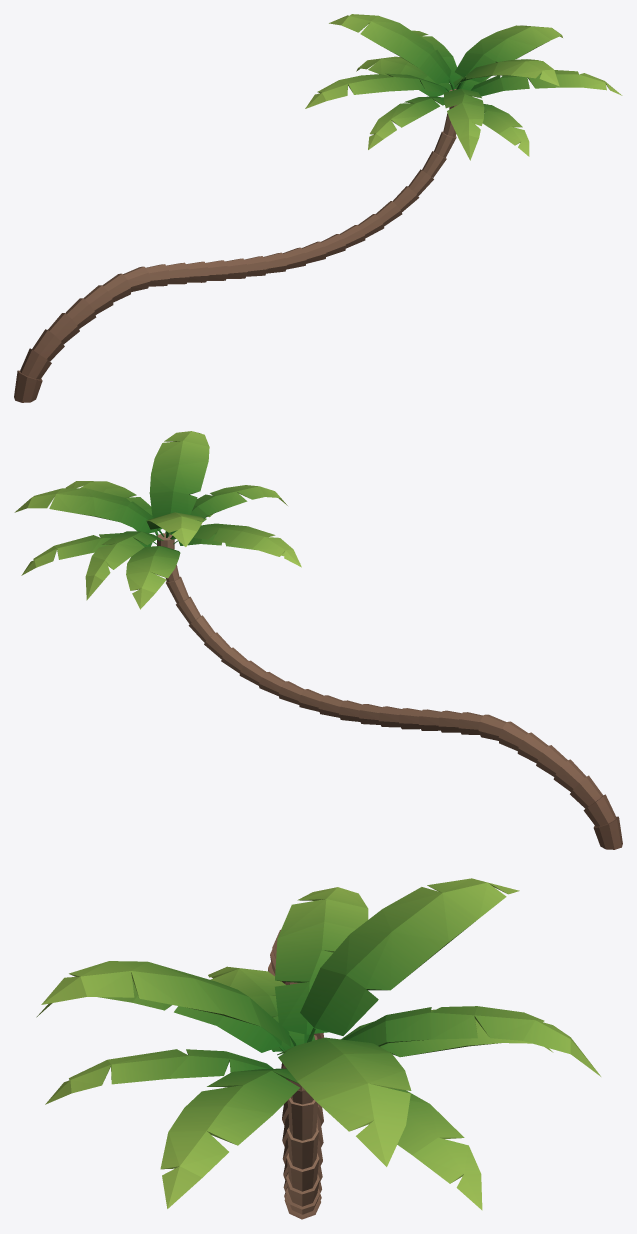
The model's file is PalmTree_03.fbx.
The picture shows the model from 3 angles, top to bottom: view 1: azimuth 30°, elevation 25°; view 2: azimuth 150°, elevation 25°; view 3: azimuth 270°, elevation 25°; orthographic projection. The views are drawn at different scales.
Visible parts, largest first — view 1: PalmTree_03_LOD0; view 2: PalmTree_03_LOD0; view 3: PalmTree_03_LOD0.
Boxes of the visible parts, x1,y1,x2,y2 form: PalmTree_03_LOD0: (14,14,622,402); PalmTree_03_LOD0: (14,431,622,849); PalmTree_03_LOD0: (36,878,600,1219).
Size of what is drawn, in the model's own units: 6.81 by 2.89 by 2.9.
